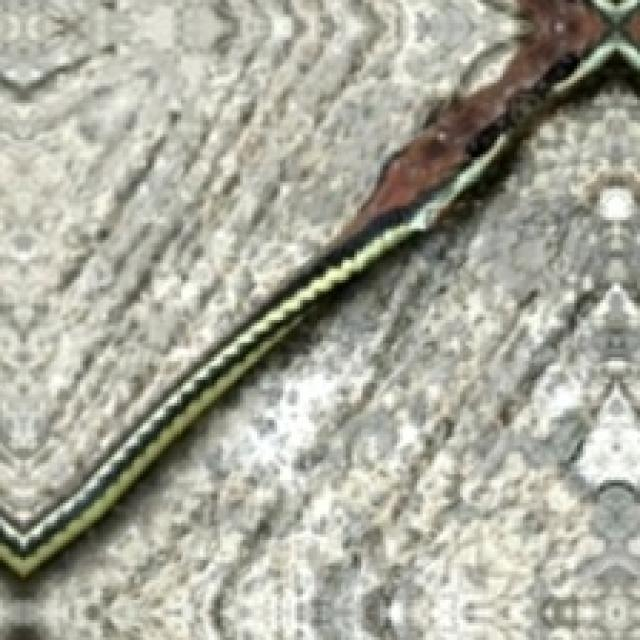philippine bronzeback treesnake: (0, 0, 639, 577)
